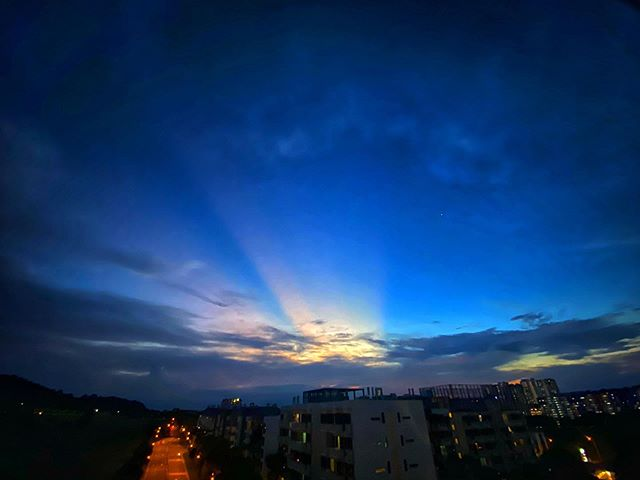building: (276, 398, 425, 480), (432, 380, 554, 480), (207, 404, 278, 480)
sky: (1, 1, 640, 373)
street: (145, 433, 194, 480)
